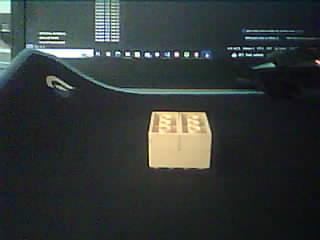lego: (148, 111, 212, 169)
